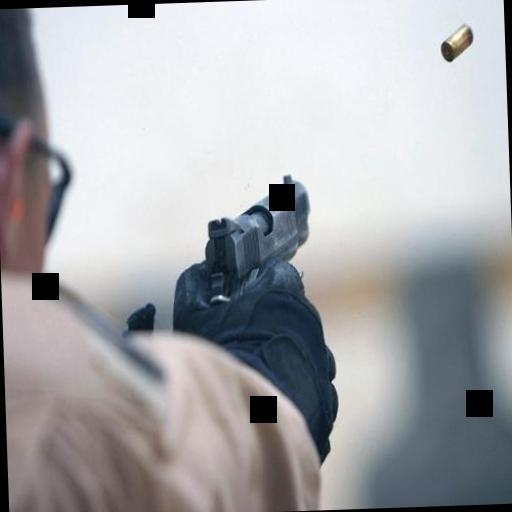Handgun: (179, 160, 325, 346)
